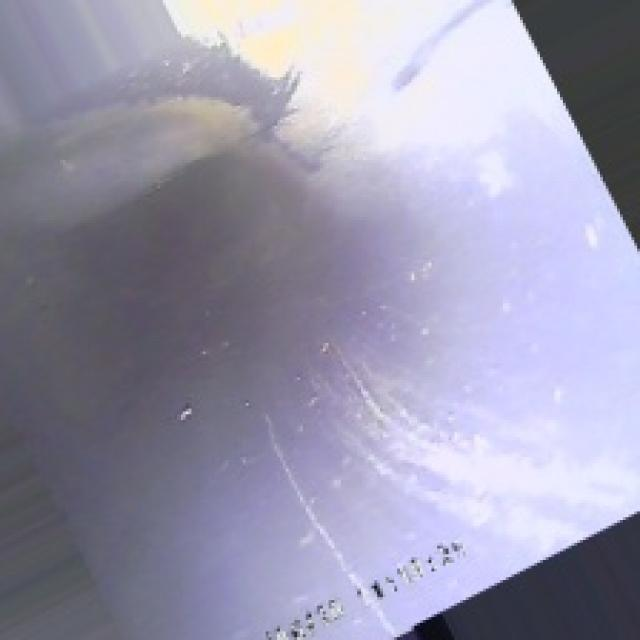shape_deformation: (66, 57, 497, 443)
